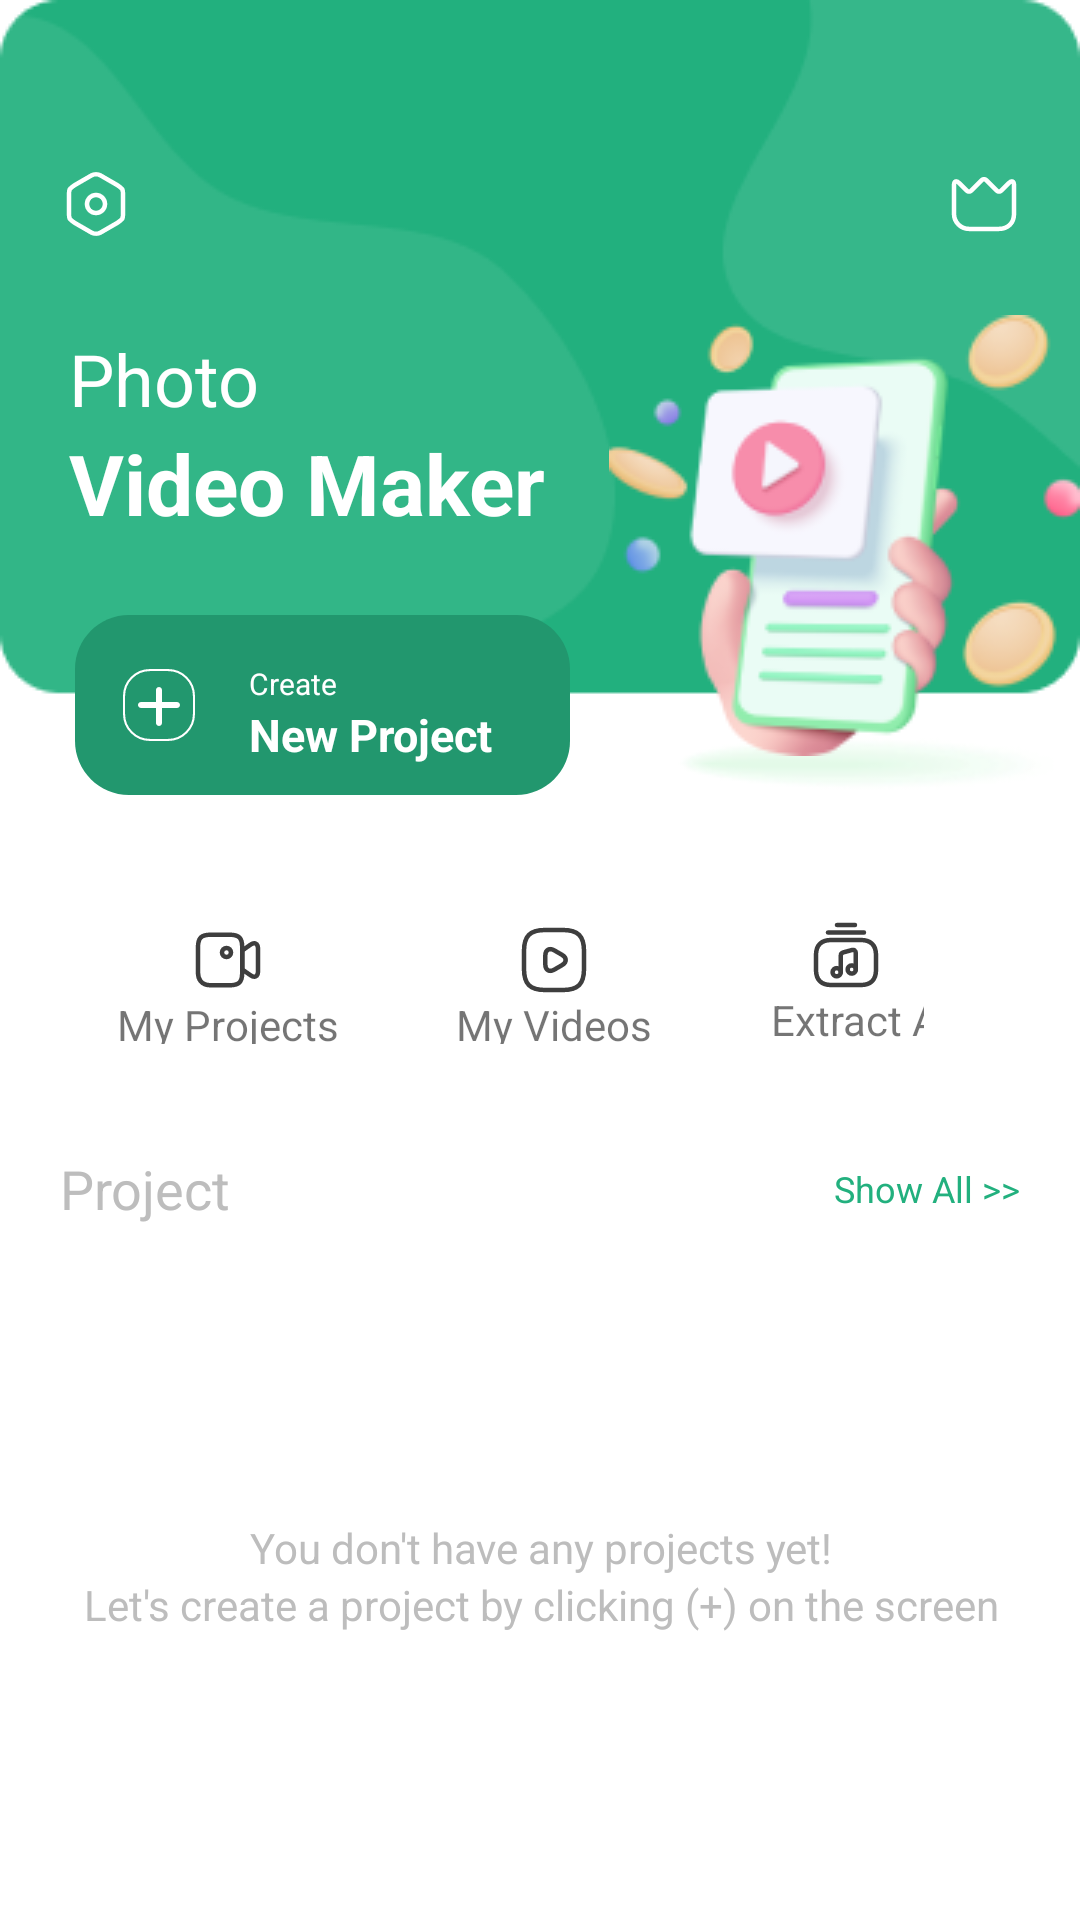

Icon click points for this 1080 × 1920 phone screenshot, format (x,y):
setting: (96,204)
store: (984,204)
